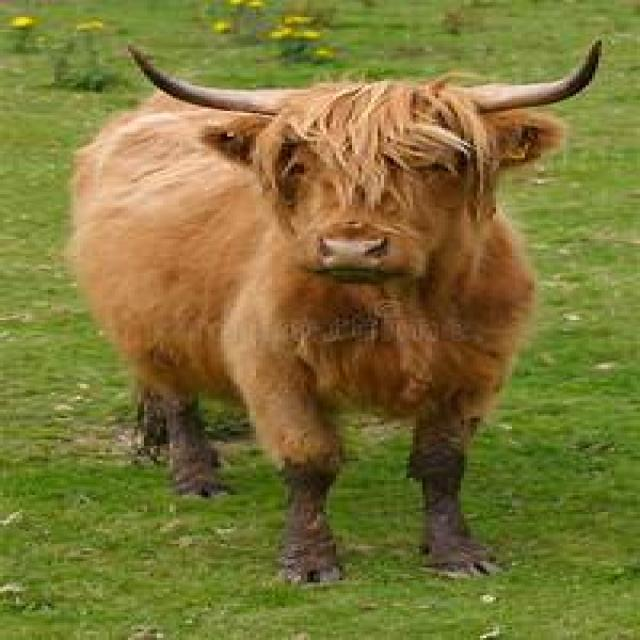cow: (34, 33, 638, 640)
